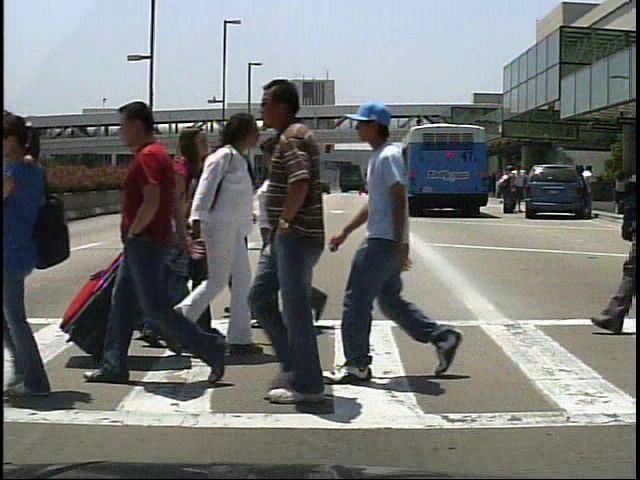person: (238, 84, 377, 424), (152, 112, 275, 370), (104, 91, 209, 389), (358, 104, 452, 383), (113, 122, 200, 343), (245, 135, 323, 331), (206, 128, 279, 322), (158, 120, 215, 362), (154, 189, 196, 321), (582, 164, 602, 218), (498, 166, 516, 219), (512, 165, 528, 215)
